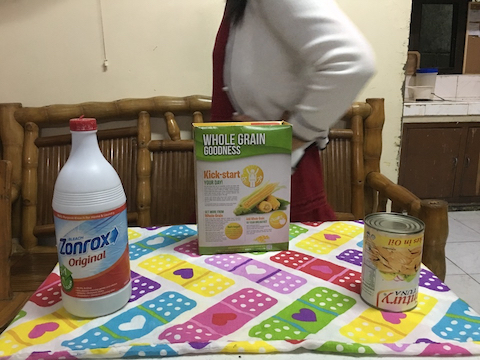bottle: (49, 113, 136, 323)
box: (192, 119, 298, 262)
can: (355, 208, 431, 315)
